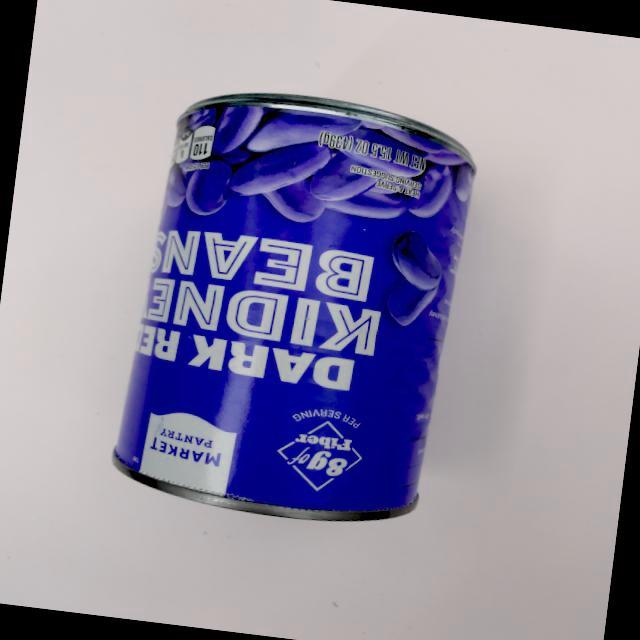metal: (104, 75, 483, 534)
